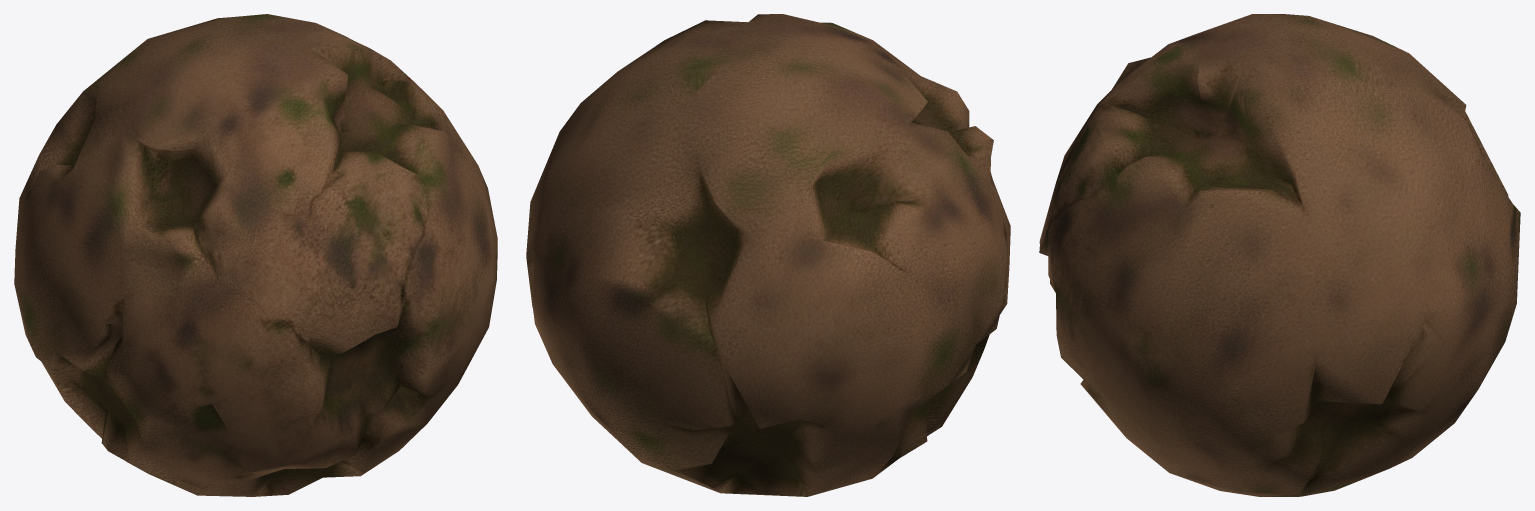
File: rotten memory 1 3d model.glb
3 renders of one model, left to right at view 1: azimuth 30°, elevation 25°; view 2: azimuth 150°, elevation 25°; view 3: azimuth 270°, elevation 25°, orthographic.
Parts seen in each view (by area): view 1: tripo_node_920c9740-a962-4e7b-8a43-faace80a2cd8; view 2: tripo_node_920c9740-a962-4e7b-8a43-faace80a2cd8; view 3: tripo_node_920c9740-a962-4e7b-8a43-faace80a2cd8.
Boxes of the visible parts, x1,y1,x2,y2 form: tripo_node_920c9740-a962-4e7b-8a43-faace80a2cd8: (14, 14, 497, 496); tripo_node_920c9740-a962-4e7b-8a43-faace80a2cd8: (526, 14, 1010, 496); tripo_node_920c9740-a962-4e7b-8a43-faace80a2cd8: (1039, 14, 1520, 496).
Bounding box in the file's own units: 0.9761 × 0.9787 × 0.9731.
1 material, 1 textured.
